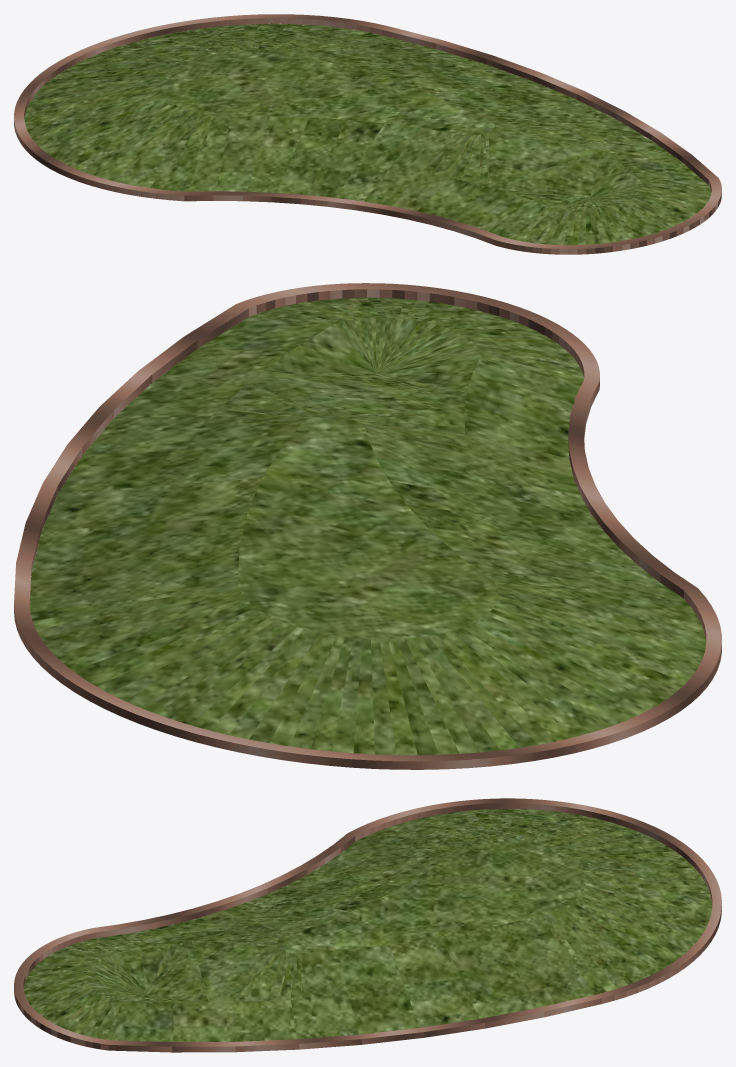
The picture shows the model from 3 angles, top to bottom: view 1: azimuth 30°, elevation 25°; view 2: azimuth 150°, elevation 25°; view 3: azimuth 270°, elevation 25°; orthographic projection. The views are drawn at different scales.
Visible parts, largest first — view 1: 花坛_草坪16; view 2: 花坛_草坪16; view 3: 花坛_草坪16.
Boxes of the visible parts, x1=… form: 花坛_草坪16: x1=14, y1=14, x2=721, y2=254; 花坛_草坪16: x1=14, y1=283, x2=721, y2=769; 花坛_草坪16: x1=14, y1=798, x2=721, y2=1052.
Size of the model in its own units: 4.27 by 0.2304 by 5.15.
2 materials, 2 textured.
